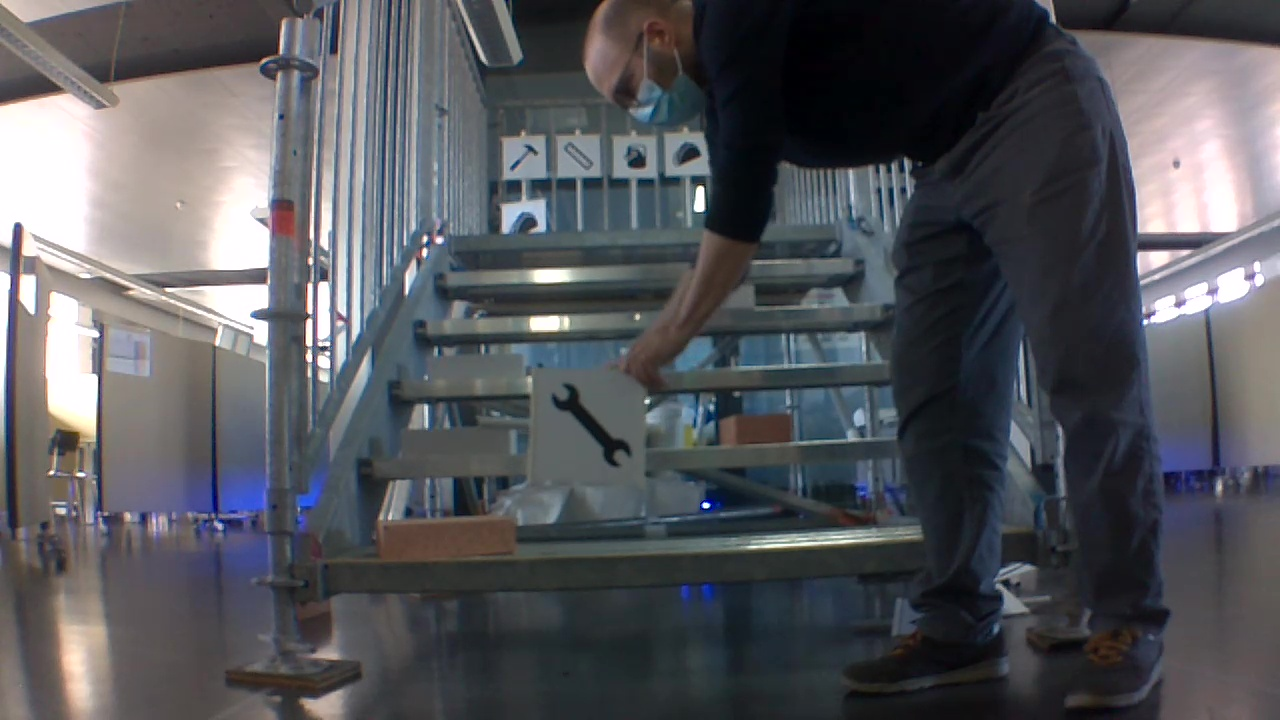brick: (374, 514, 514, 558), (401, 429, 514, 461), (425, 353, 526, 381), (718, 413, 789, 443)
bucket: (618, 140, 650, 171)
hammer: (505, 142, 542, 176)
ruler: (561, 139, 594, 172)
taco: (669, 137, 706, 168), (501, 207, 540, 235)
wrench: (543, 375, 638, 473)
